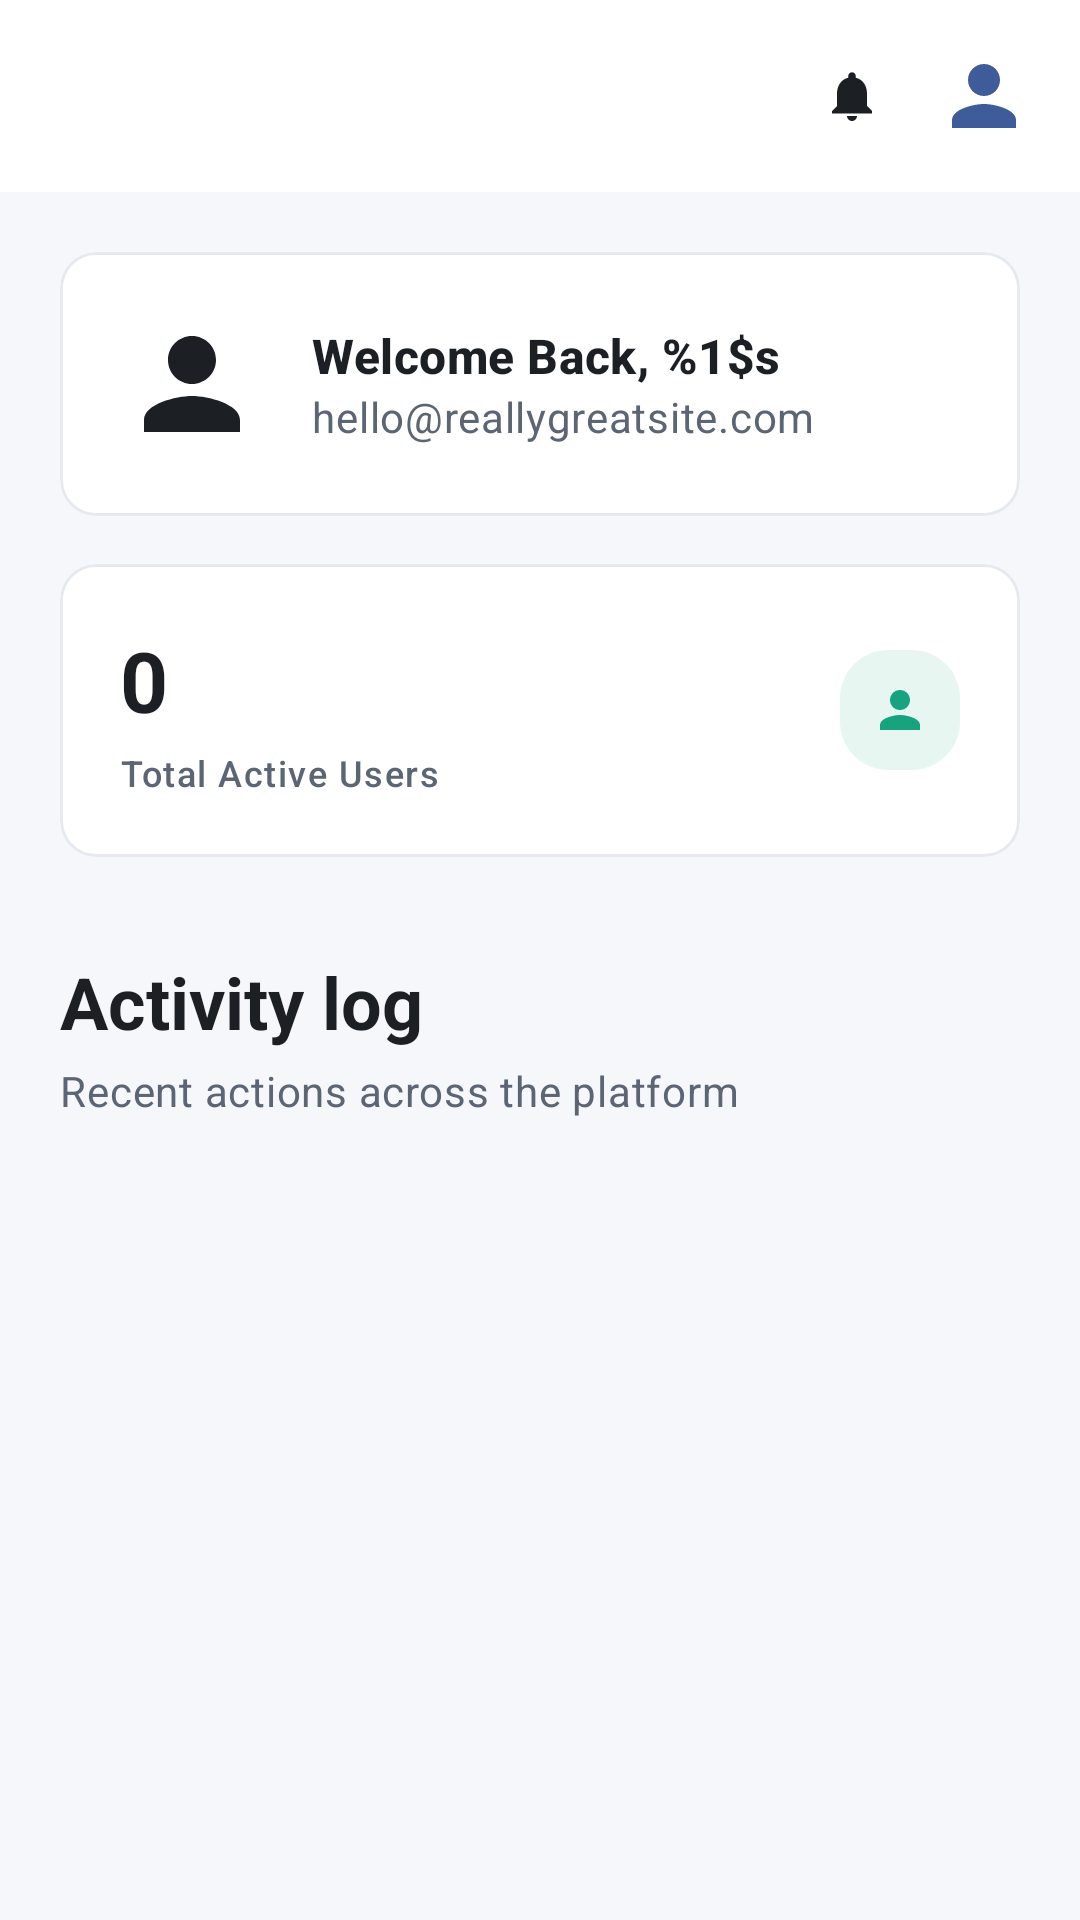

Locate icon controls on the screen. Image size 1080w x 1920h, boxes as (x1, y1, x2, y2).
Notifications: (832, 72, 872, 121)
Profile: (952, 64, 1016, 128), (144, 336, 240, 432)
Users Icon: (880, 690, 920, 730)
